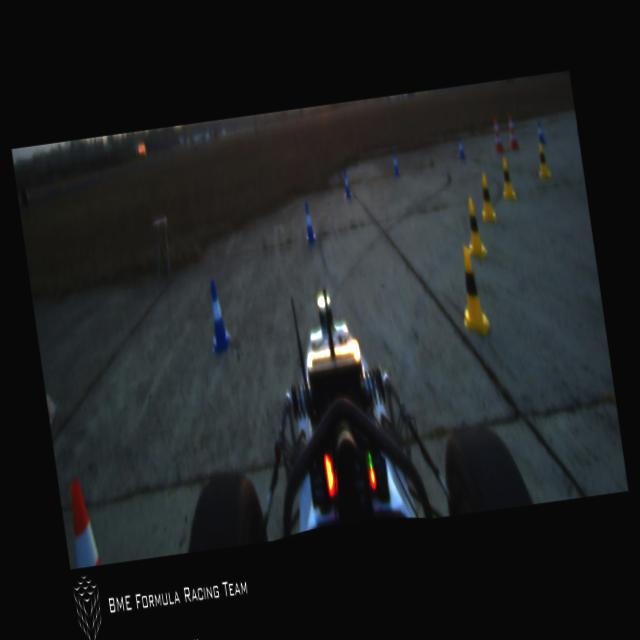blue_cone: (203, 279, 232, 355), (300, 202, 316, 245), (340, 168, 353, 200), (390, 150, 400, 178), (457, 135, 467, 160), (536, 121, 546, 146)
large_orange_cone: (490, 114, 504, 156), (504, 110, 518, 152)
orange_cone: (65, 476, 102, 569)
yellow_cone: (455, 246, 490, 337), (462, 198, 486, 255), (477, 174, 496, 222), (498, 158, 516, 199), (534, 142, 552, 182)
